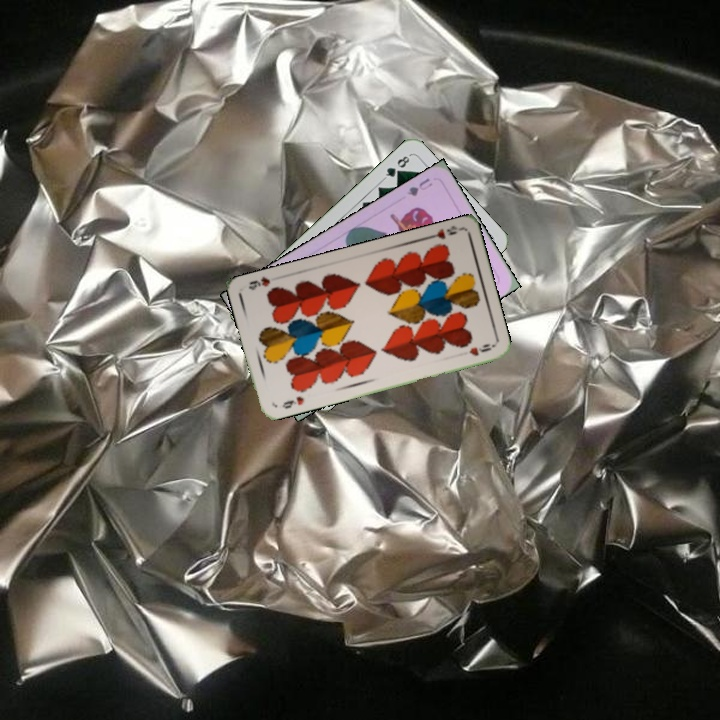G8: (380, 151, 413, 182)
GU: (404, 174, 435, 199)
H9: (423, 222, 463, 242), (278, 392, 306, 411)
